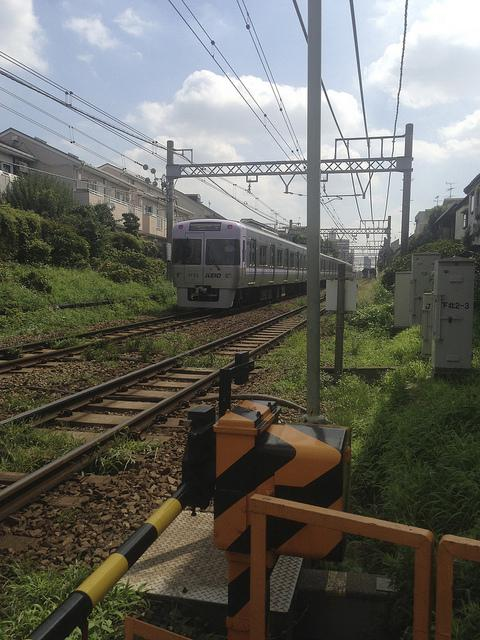Train: (170, 219, 355, 315)
